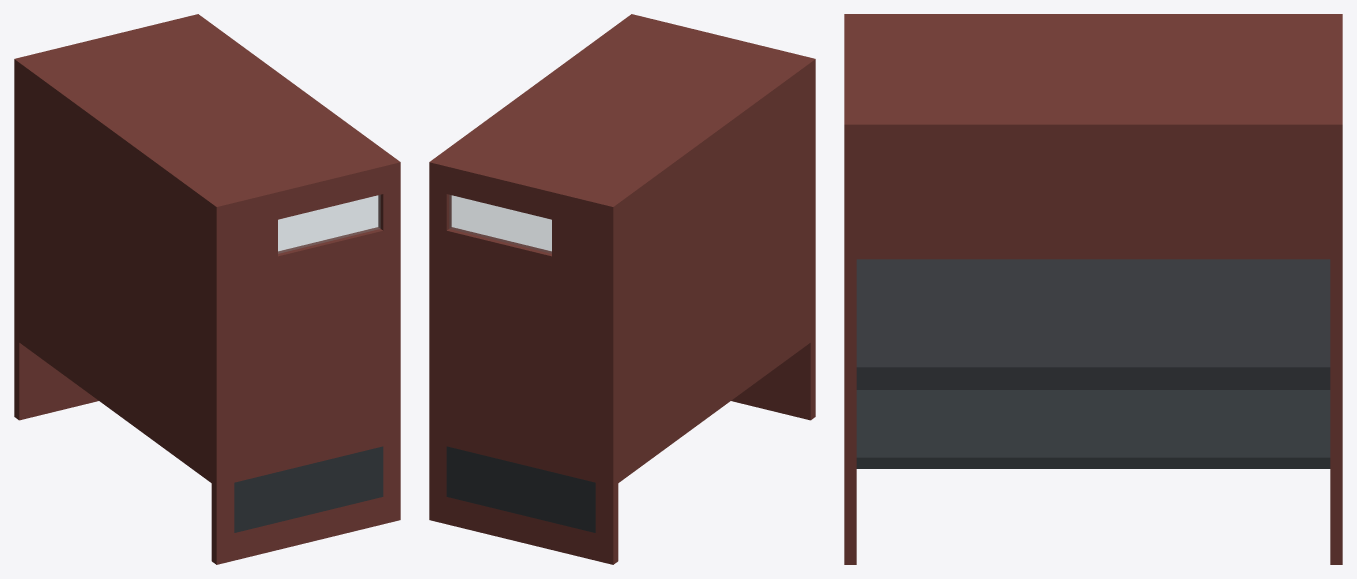
Rendered from semi_tractor_sleeper.glb.
3 renders of one model, left to right at view 1: azimuth 30°, elevation 25°; view 2: azimuth 150°, elevation 25°; view 3: azimuth 270°, elevation 25°, orthographic. The views are drawn at different scales.
Parts seen in each view (by area): view 1: body:compound; view 2: body:compound; view 3: body:compound.
Boxes of the visible parts, x1=… form: body:compound: x1=14, y1=14, x2=400, y2=564; body:compound: x1=429, y1=14, x2=815, y2=564; body:compound: x1=844, y1=14, x2=1342, y2=564.
Size of the model in its own units: 1.31 by 2.44 by 2.5.
